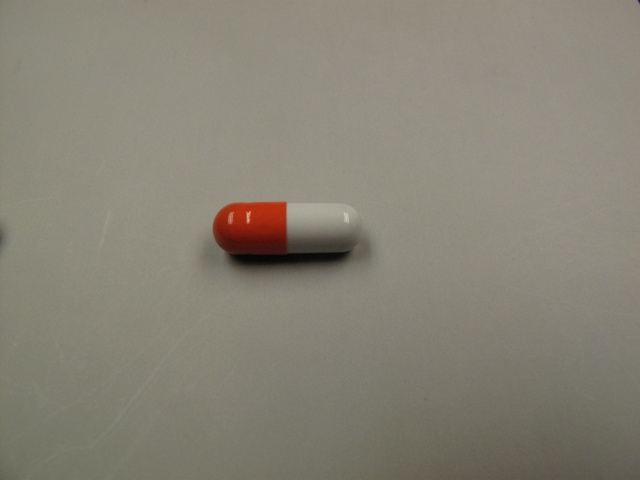capsule: (211, 200, 363, 253)
